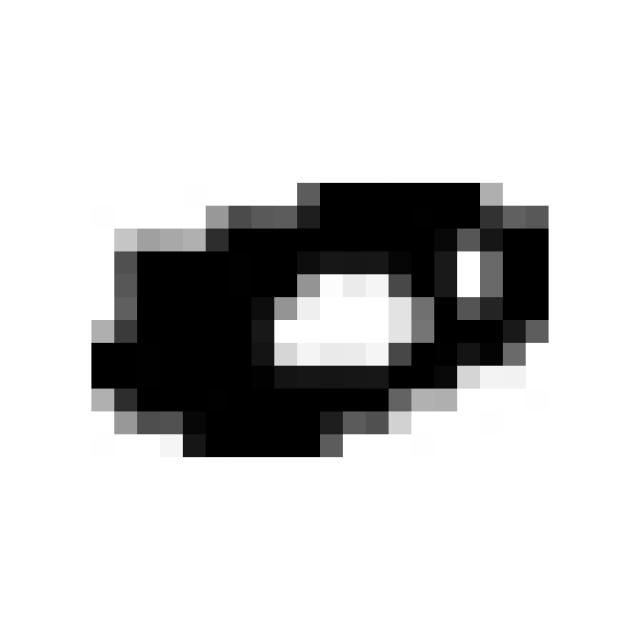0 -zero-: (71, 160, 564, 473)
